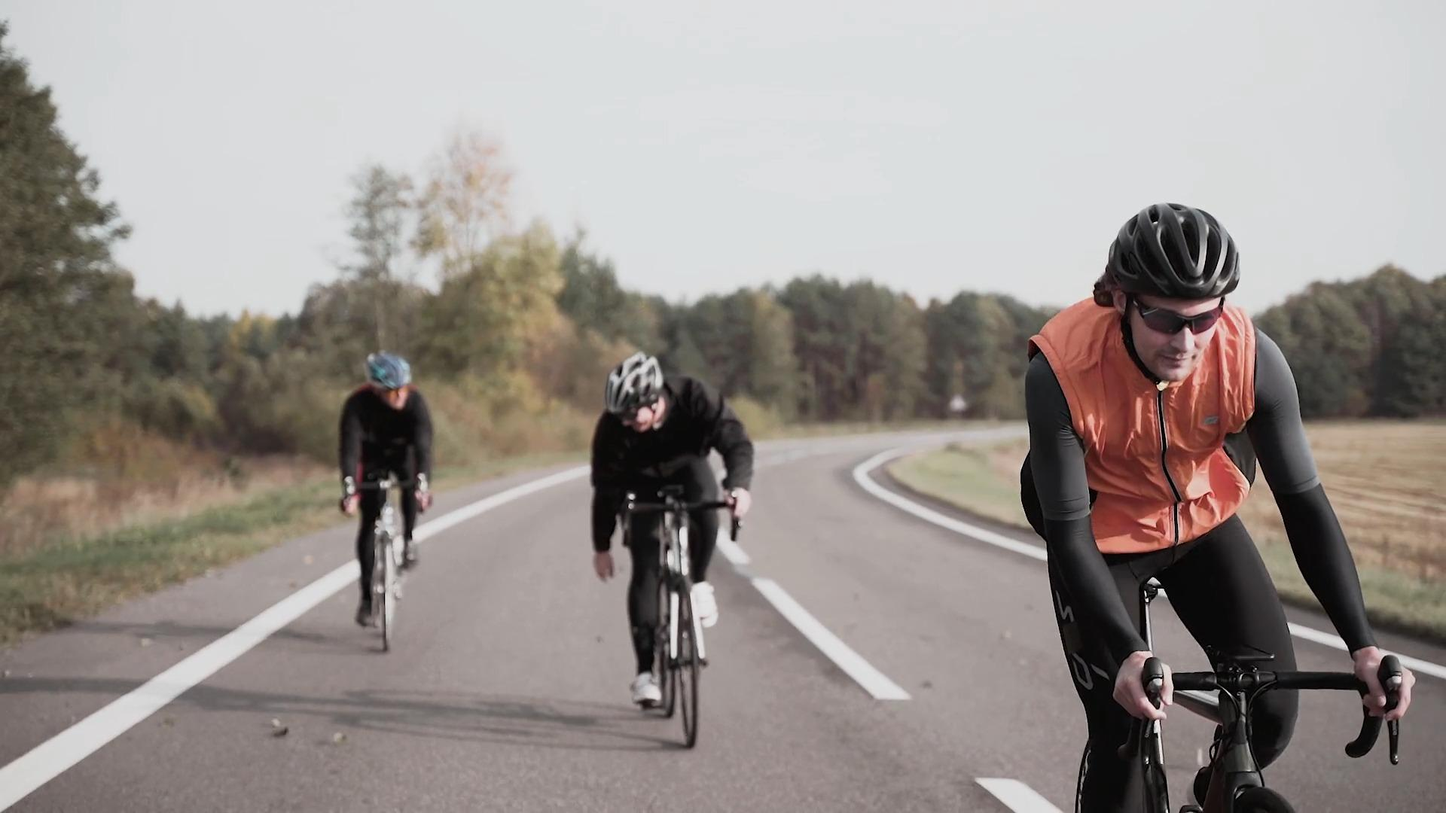bicyclist: (1019, 204, 1416, 813), (590, 352, 756, 751), (336, 350, 433, 653)
helmet: (1093, 202, 1241, 385), (604, 352, 664, 435), (363, 351, 413, 412)
